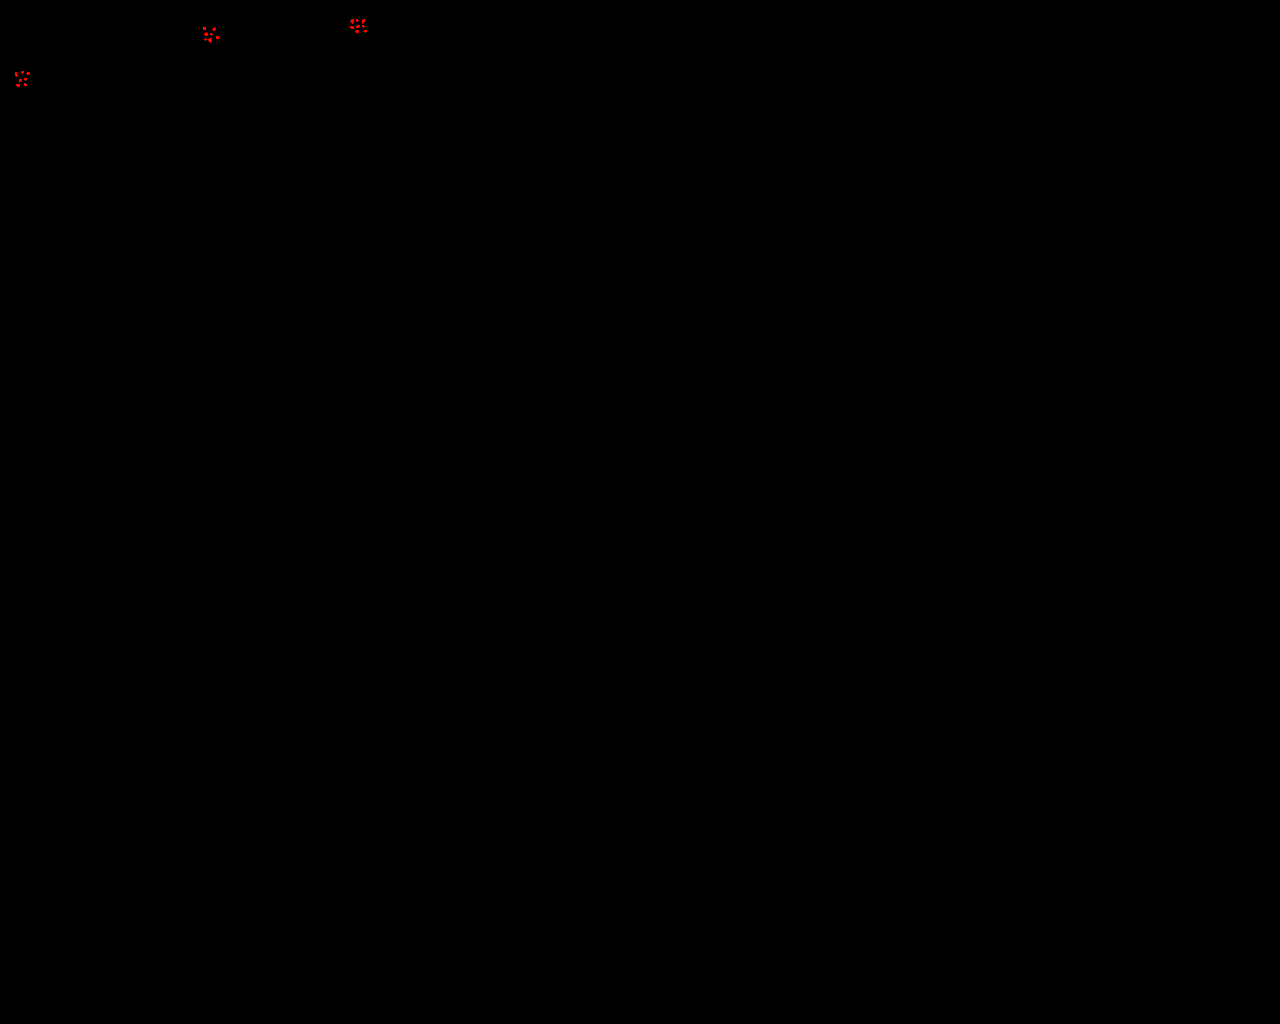Target: (350, 19, 354, 24), (208, 38, 212, 43), (212, 27, 216, 31), (362, 19, 365, 24), (15, 72, 18, 77), (356, 25, 360, 28), (350, 26, 354, 29), (355, 30, 359, 33), (363, 30, 367, 33), (204, 32, 208, 36), (26, 72, 30, 75), (16, 84, 20, 87), (356, 19, 359, 22), (362, 25, 365, 28), (203, 27, 206, 30), (216, 36, 219, 39), (204, 38, 207, 41), (21, 71, 24, 74), (24, 78, 27, 82), (24, 83, 27, 86), (210, 33, 213, 36), (19, 79, 22, 82)
